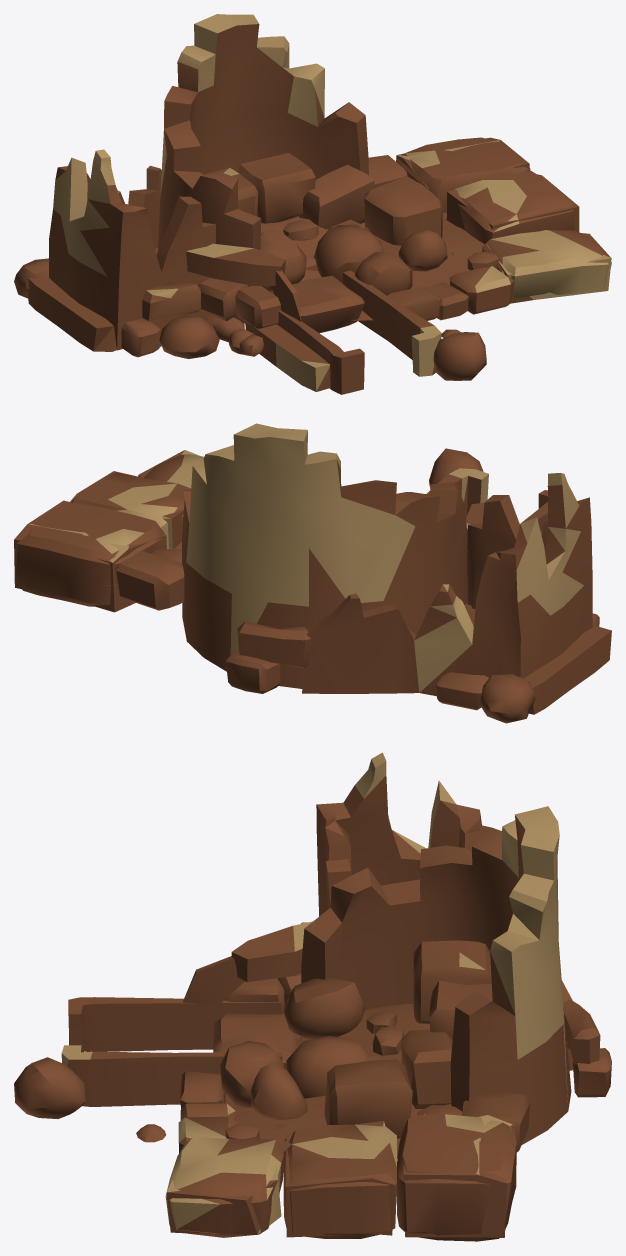
The model's file is castle_d4.glb.
3 views of the same model, one above another, from view 1: azimuth 30°, elevation 25°; view 2: azimuth 150°, elevation 25°; view 3: azimuth 270°, elevation 25° (orthographic). The views are drawn at different scales.
Visible parts, largest first — view 1: castle; view 2: castle; view 3: castle.
Part boxes in pixels (box(x1,y1,x2,y2)): castle: box(14, 14, 611, 394); castle: box(14, 423, 611, 723); castle: box(14, 752, 611, 1241).
Bounding box in the file's own units: 2.9 × 1.32 × 2.6.
